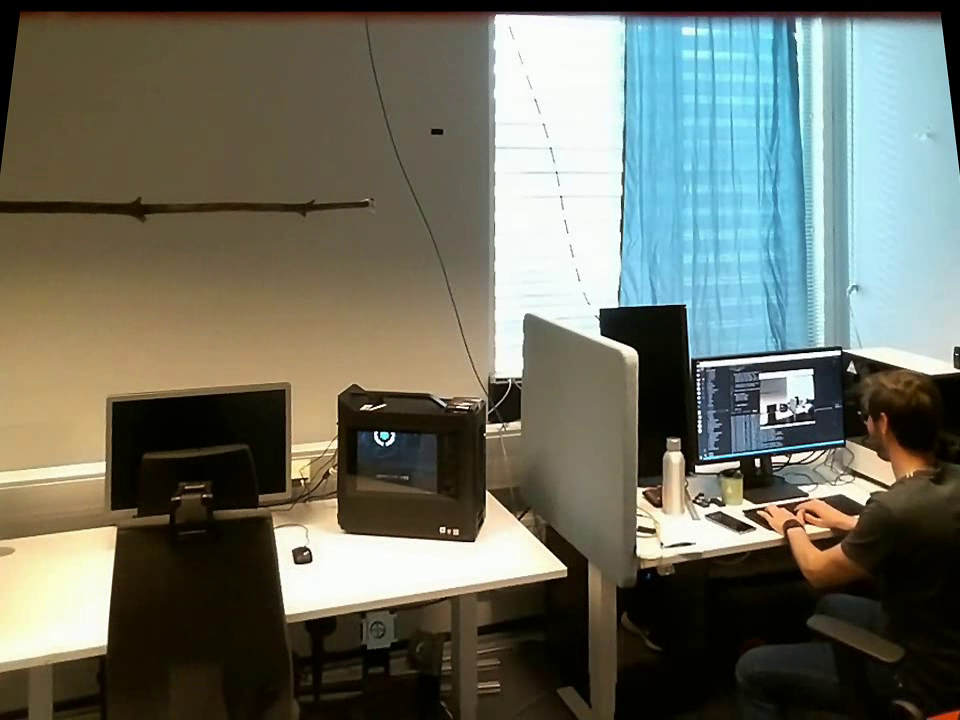branch: (0, 192, 364, 227)
